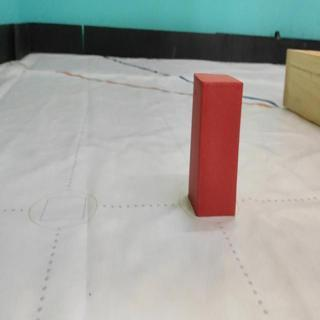redbox: (188, 71, 244, 216)
